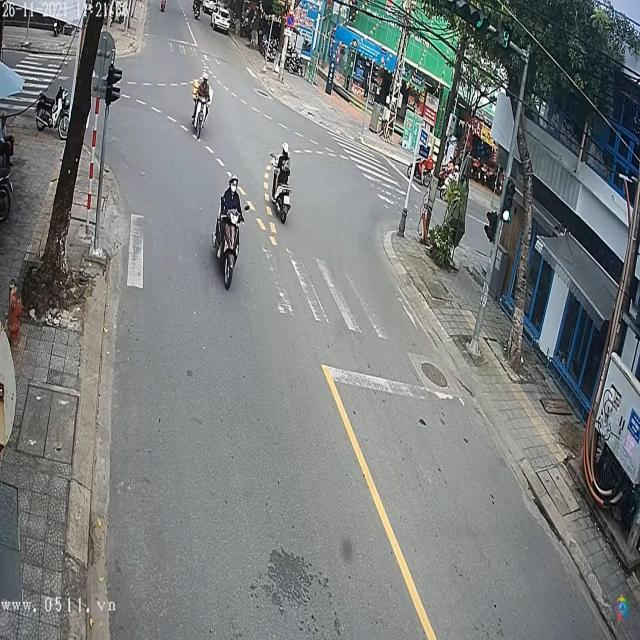motorcycle: (218, 206, 246, 294), (272, 169, 293, 227), (192, 89, 211, 139), (159, 1, 167, 13)
